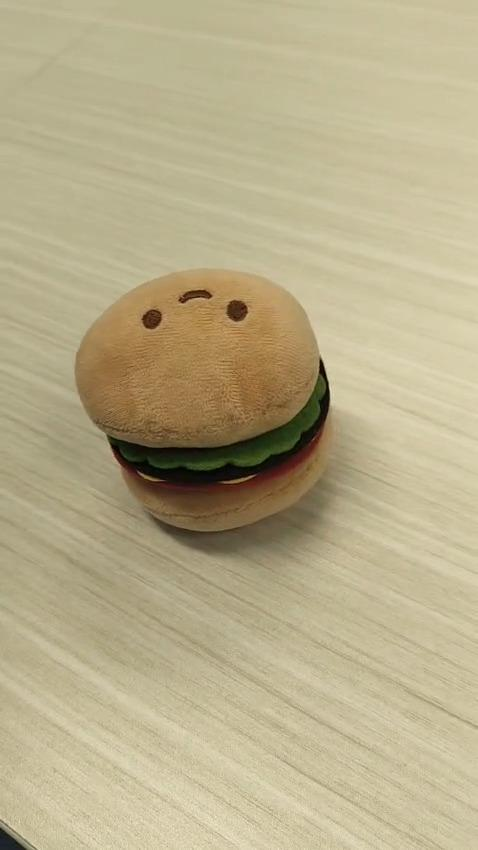hamburger: (73, 266, 332, 534)
